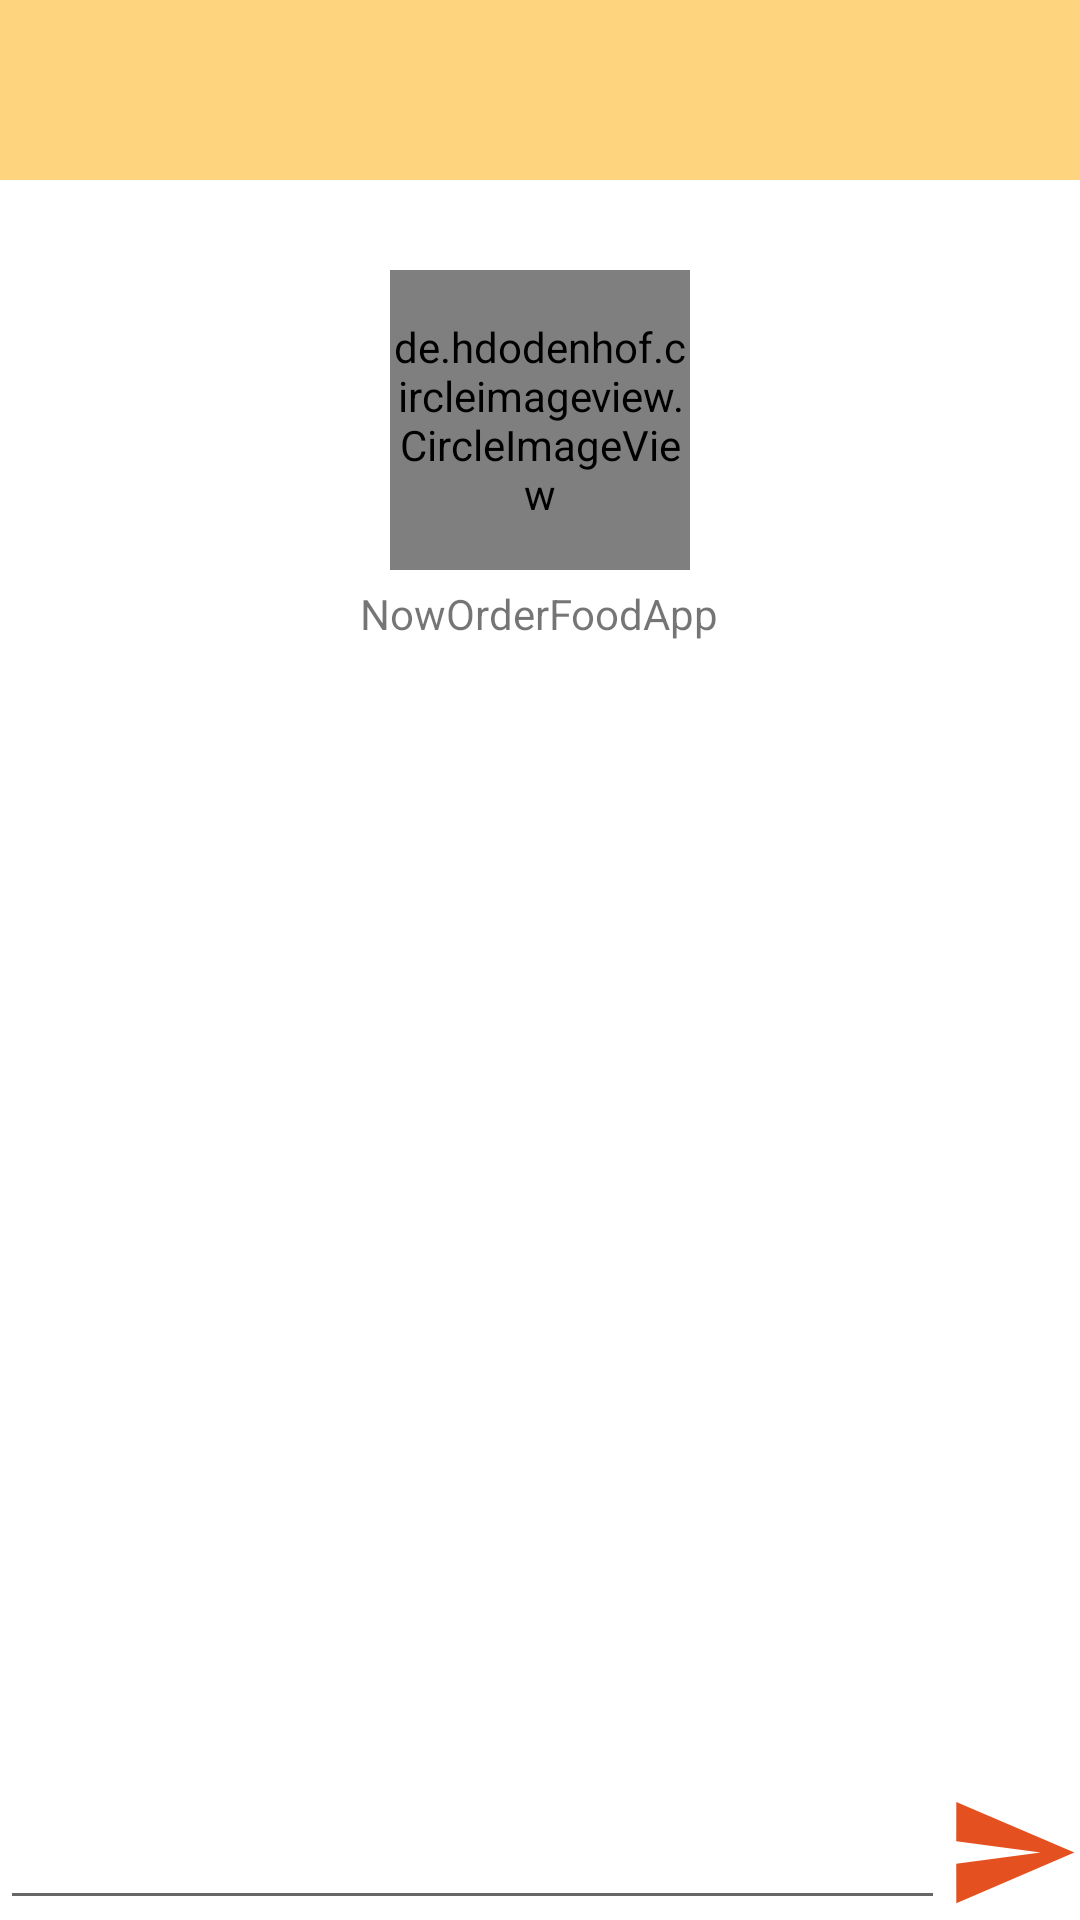

Where icons sit on this 1080 × 1920 app screen, as (x1, y1, x2, y2):
send: (956, 1802, 1074, 1903)
